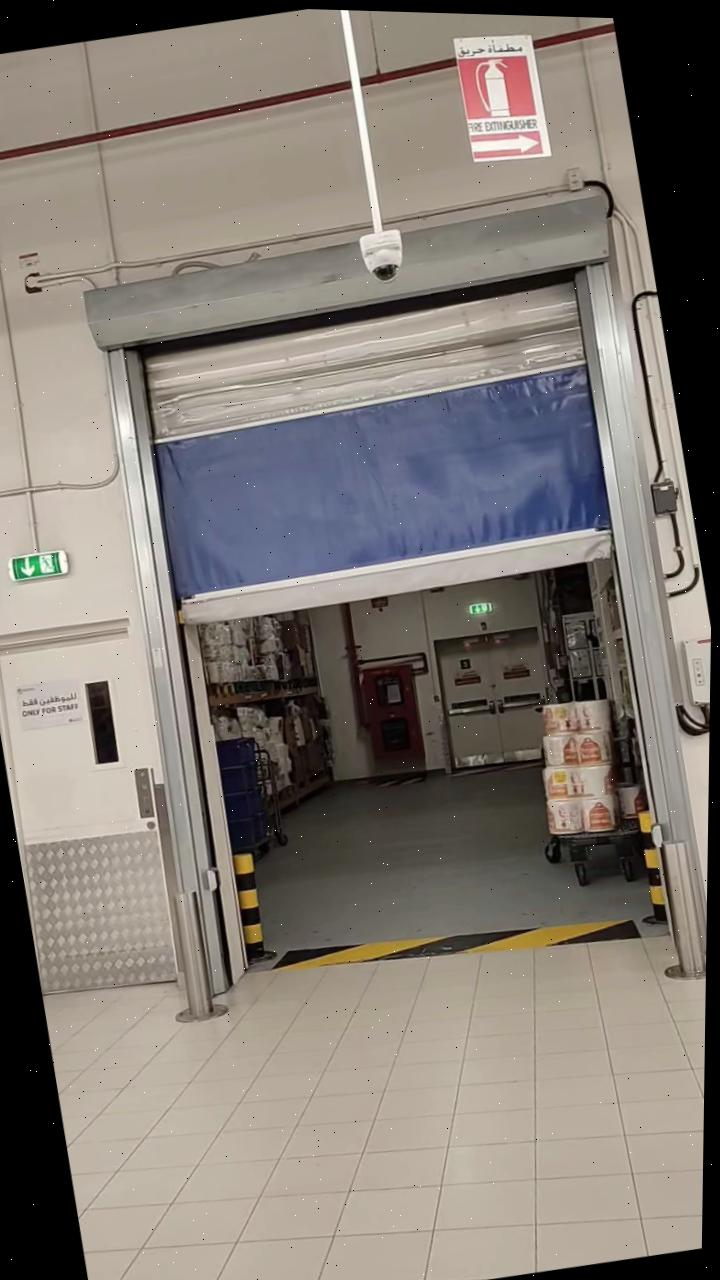Strip: (284, 879, 643, 995)
